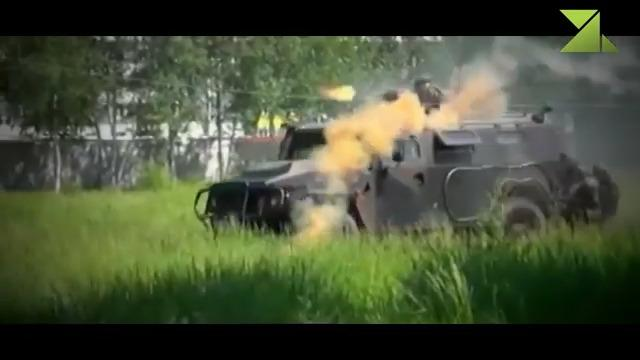MIL_HMMWV: (195, 105, 564, 245)
